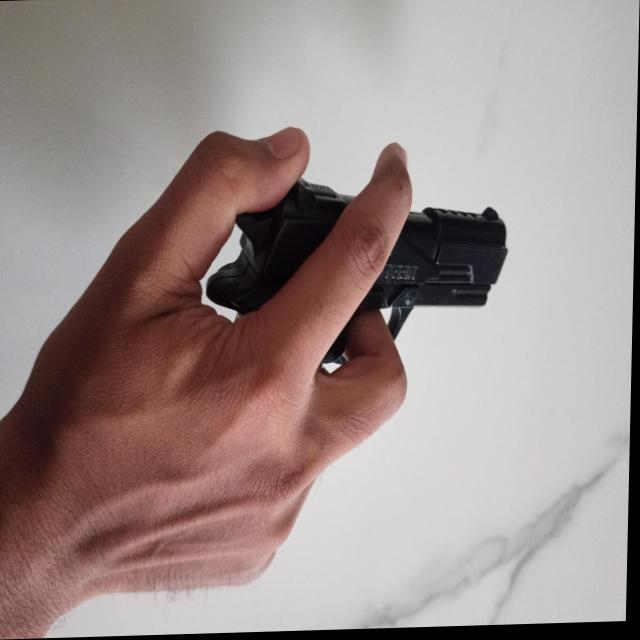handgun: (205, 174, 511, 379)
